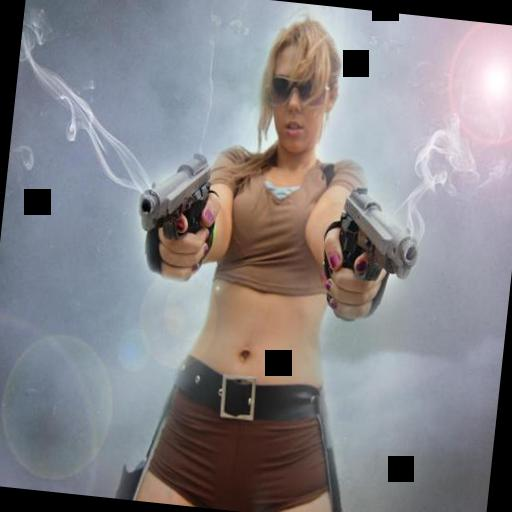Handgun: (328, 175, 426, 297), (125, 138, 217, 257)
